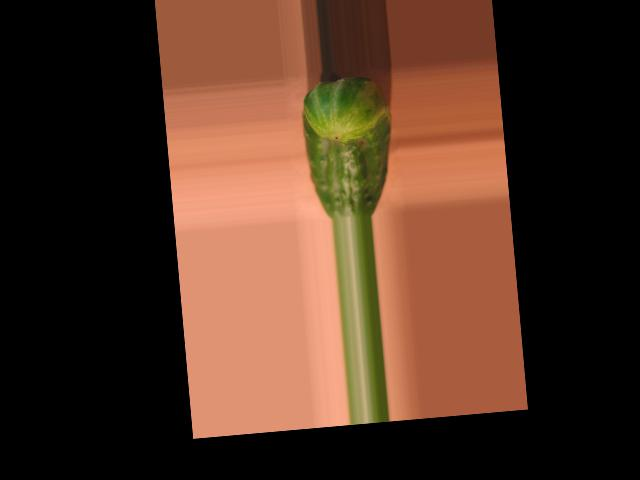cucumber: (298, 74, 398, 221)
